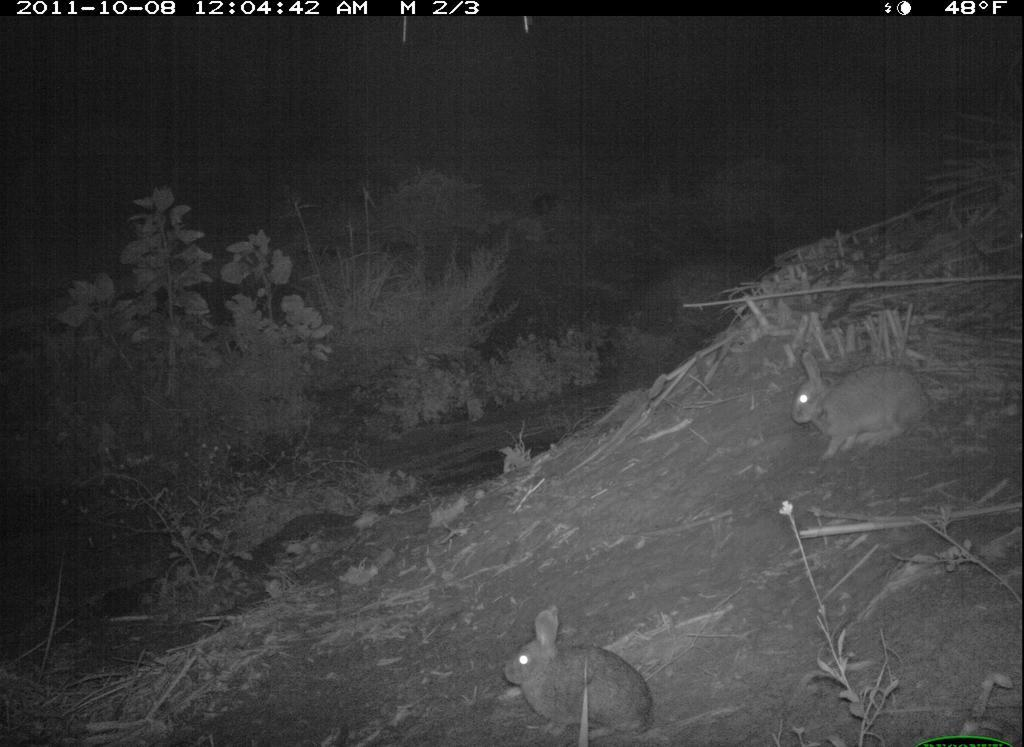rabbit: (497, 598, 675, 745), (785, 341, 932, 465)
